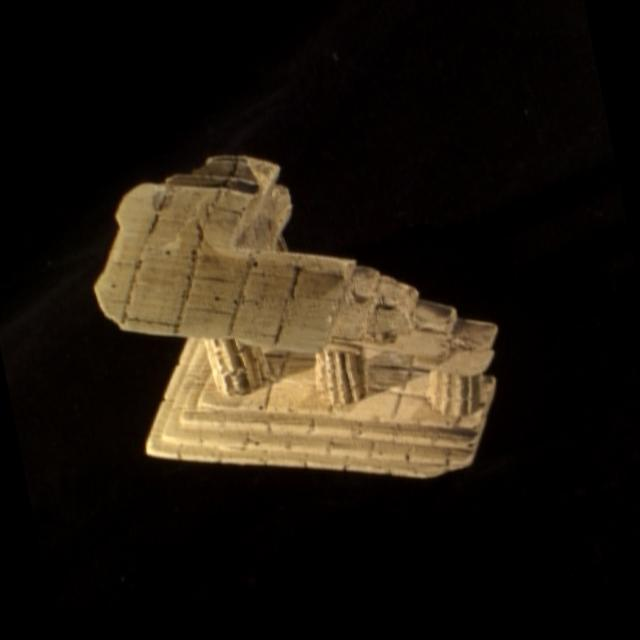Instance-Segmentation: (93, 156, 493, 477)
